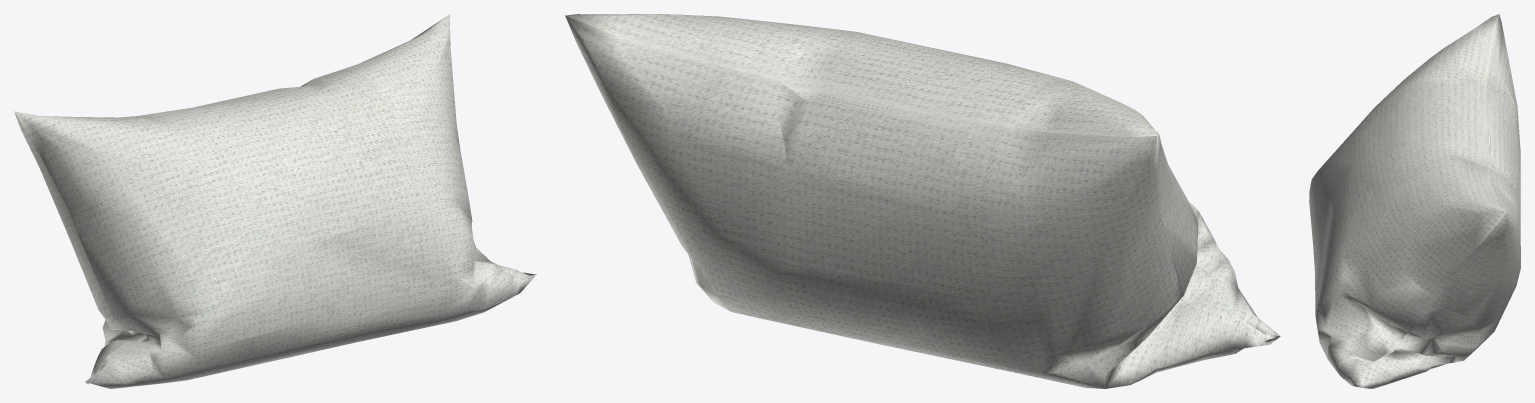
The model's file is Pillow 1.FBX.
The picture shows the model from 3 angles, left to right: view 1: azimuth 30°, elevation 25°; view 2: azimuth 150°, elevation 25°; view 3: azimuth 270°, elevation 25°; orthographic projection. The views are drawn at different scales.
Parts seen in each view (by area): view 1: pillow; view 2: pillow; view 3: pillow.
Part boxes in pixels (<box>): pillow: <box>14,14,536,388</box>; pillow: <box>565,14,1280,388</box>; pillow: <box>1309,14,1520,388</box>.
Size of the model in its own units: 27.21 by 12.62 by 13.09.
Materials: 1 (1 with a texture image).
